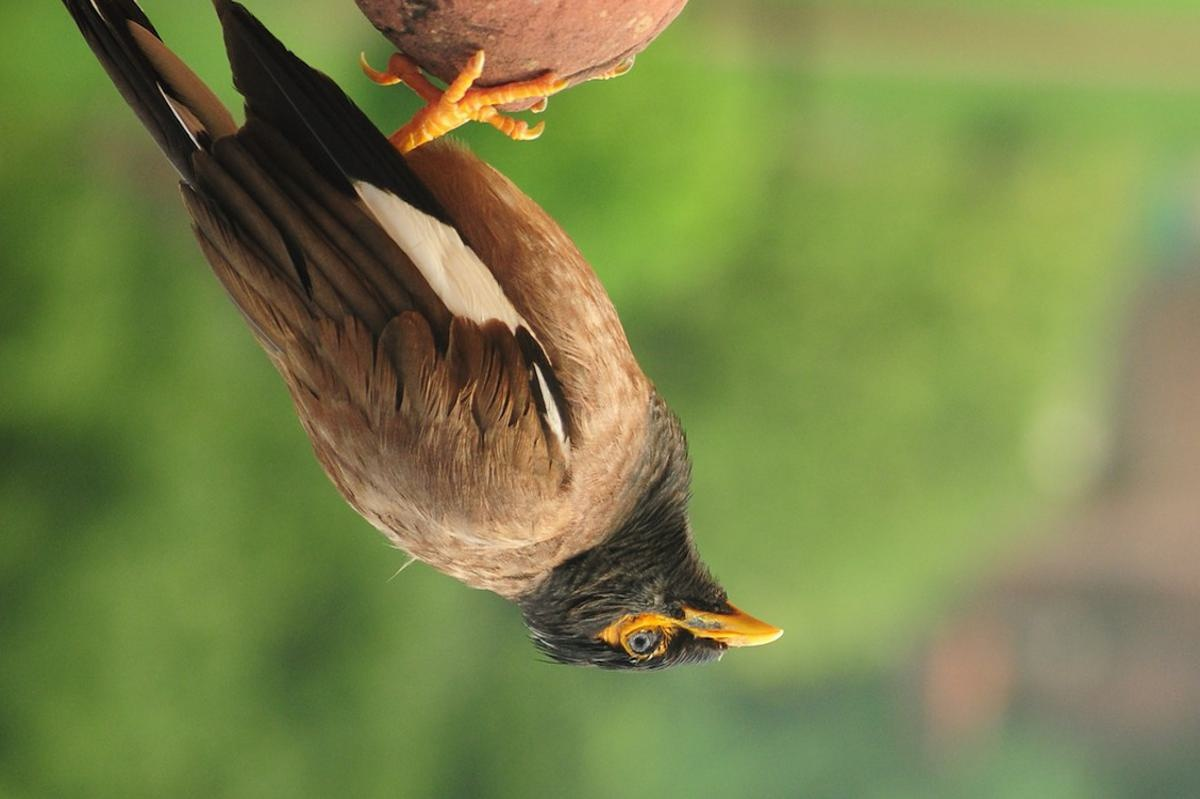myna: (170, 42, 791, 721)
